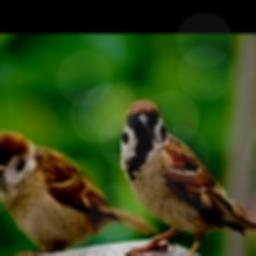Sparrow: (122, 99, 256, 256), (0, 131, 157, 256)
